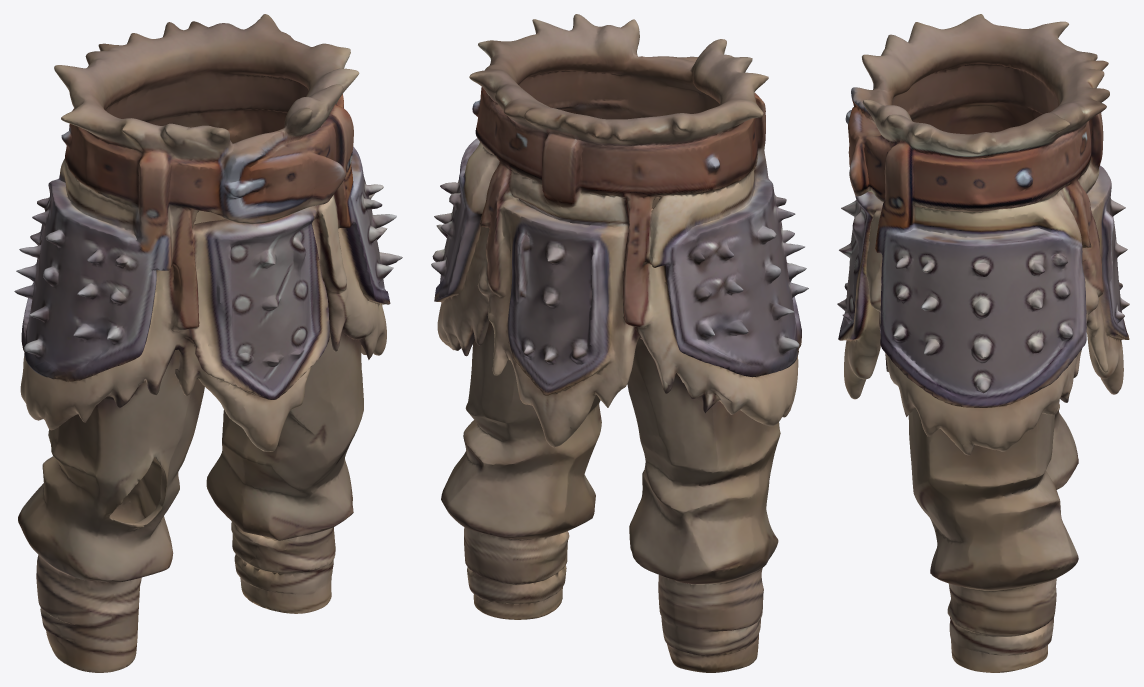
The model's file is calca-barbaro.glb.
The picture shows the model from 3 angles, left to right: view 1: azimuth 30°, elevation 25°; view 2: azimuth 150°, elevation 25°; view 3: azimuth 270°, elevation 25°; orthographic projection. The views are drawn at different scales.
Parts seen in each view (by area): view 1: tripo_node_f229ffa2-e08e-421b-a2ef-4f7bcf6025ce.001; view 2: tripo_node_f229ffa2-e08e-421b-a2ef-4f7bcf6025ce.001; view 3: tripo_node_f229ffa2-e08e-421b-a2ef-4f7bcf6025ce.001.
Boxes of the visible parts, <box> form: tripo_node_f229ffa2-e08e-421b-a2ef-4f7bcf6025ce.001: <box>14,14,402,672</box>; tripo_node_f229ffa2-e08e-421b-a2ef-4f7bcf6025ce.001: <box>431,14,808,672</box>; tripo_node_f229ffa2-e08e-421b-a2ef-4f7bcf6025ce.001: <box>837,14,1129,672</box>.
Size of the model in its own units: 0.1917 by 0.2837 by 0.1362.
1 material, 1 textured.
